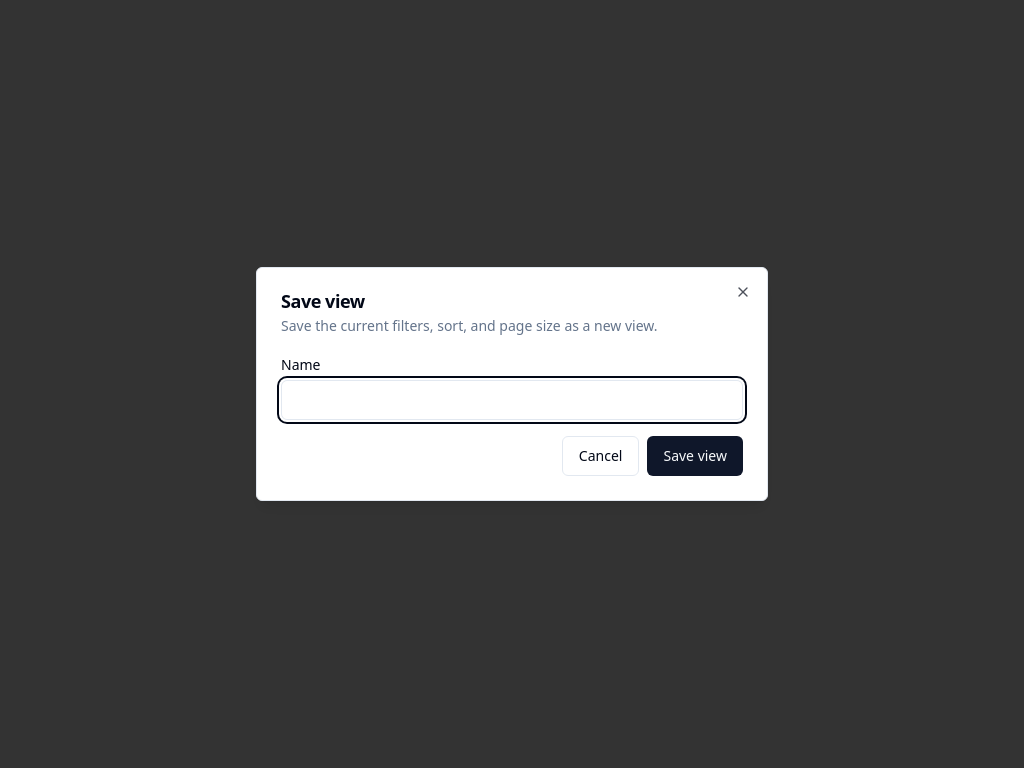
Test: SaveViewDialog › shows a validation error when name is empty
Click the button "Save view" at coordinates (695, 456), box [648,436,743,476]
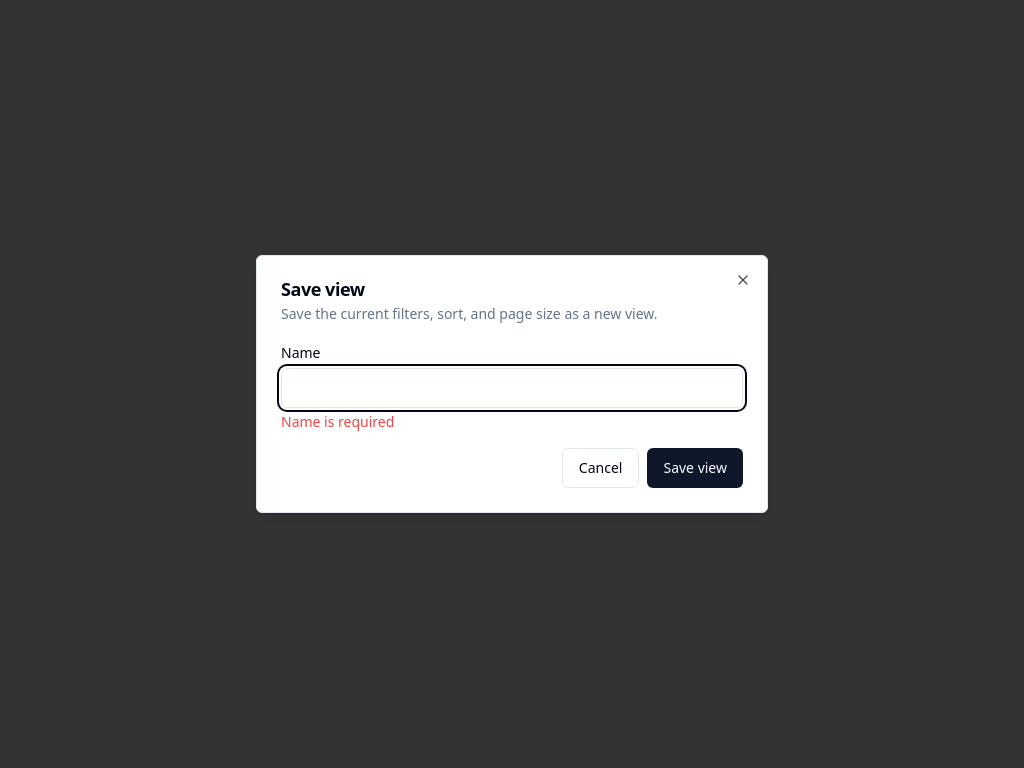
Check: the text "Name is required" is shown, box [281,412,394,431]
